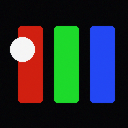2 circle: (10, 37, 34, 61)
